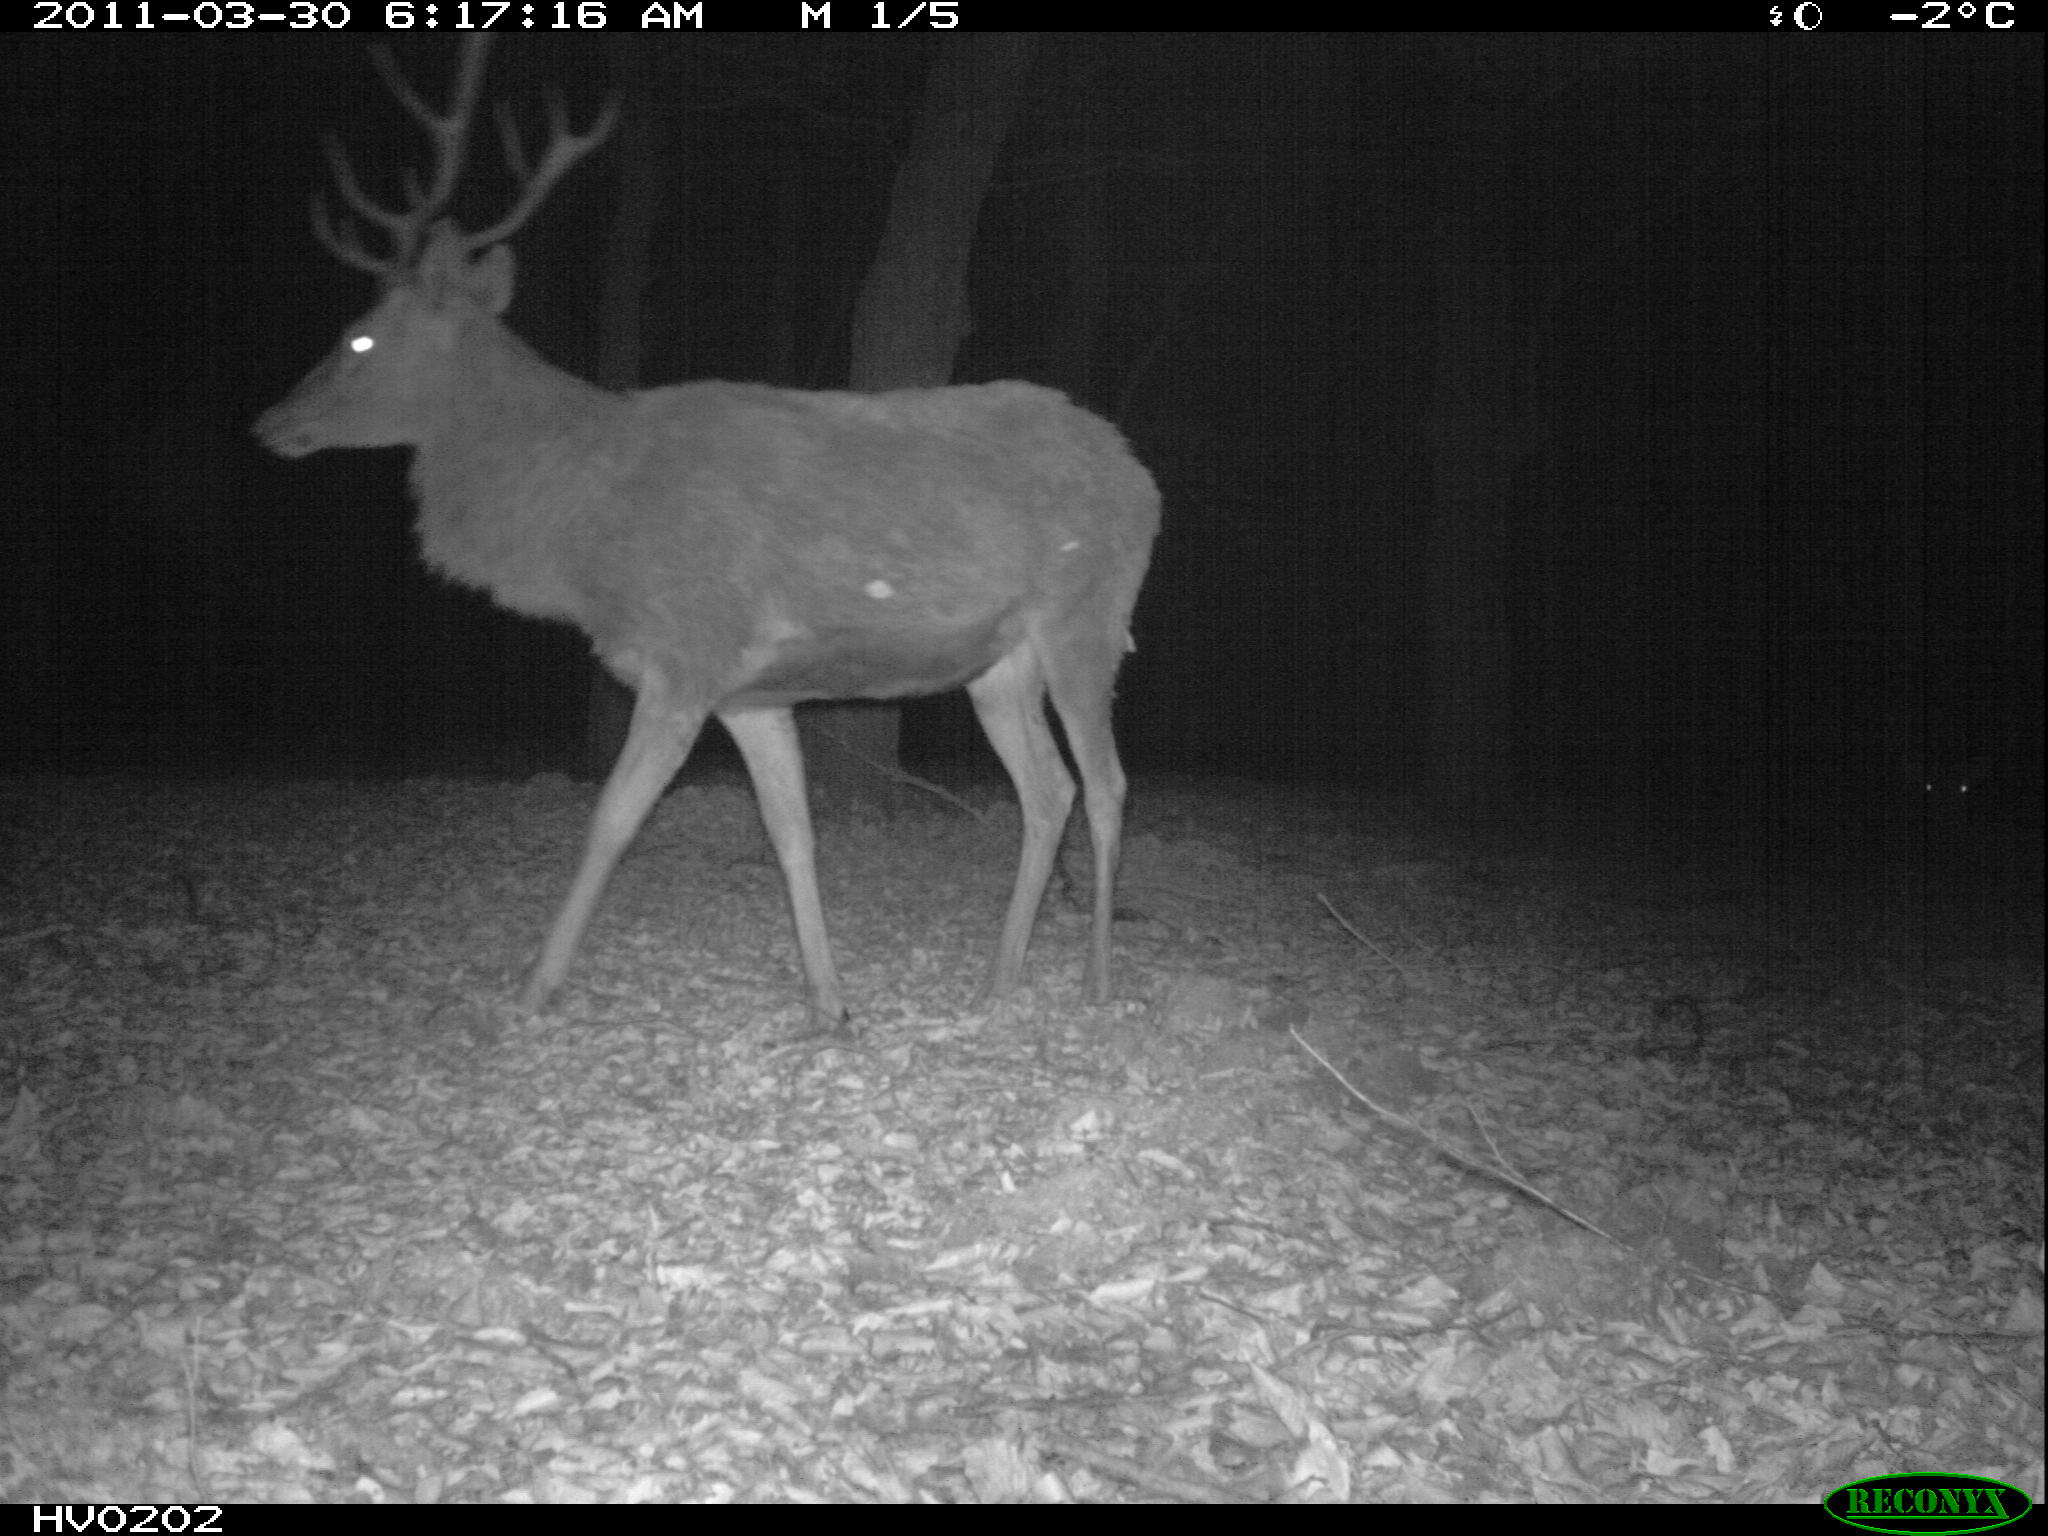Deer: (239, 31, 1163, 1025)
